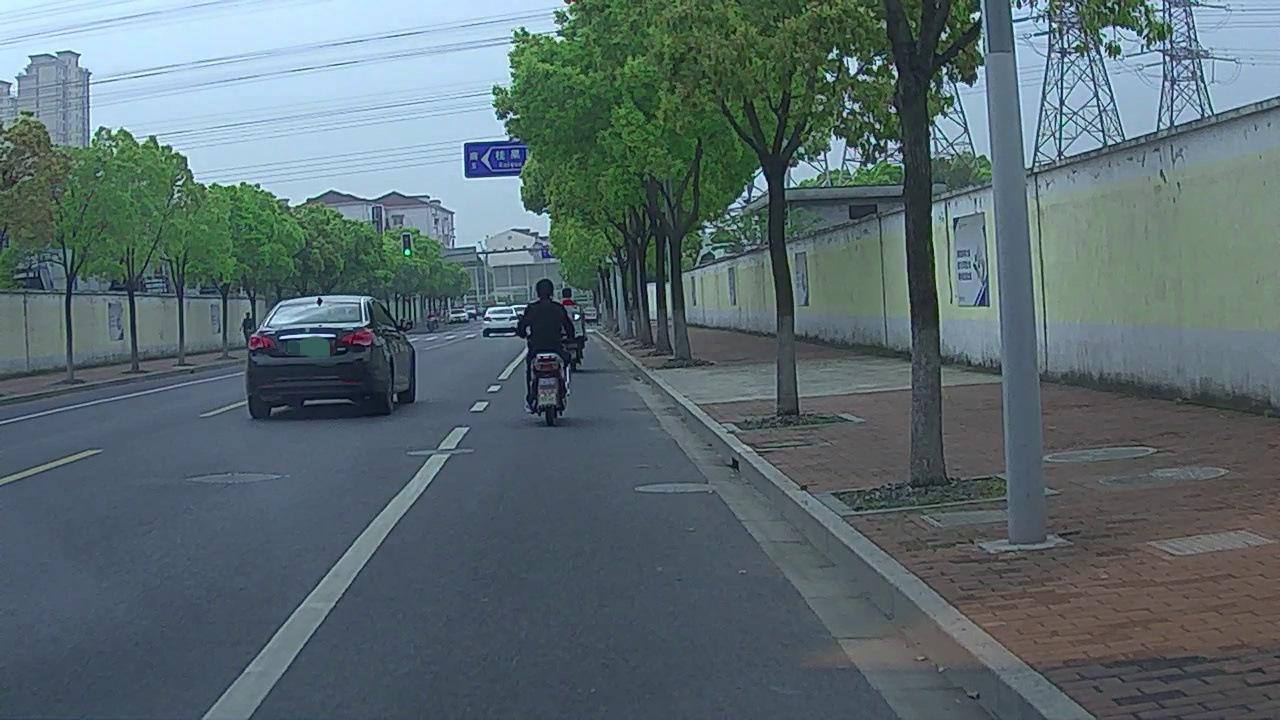traffic_light: (402, 233, 411, 257)
